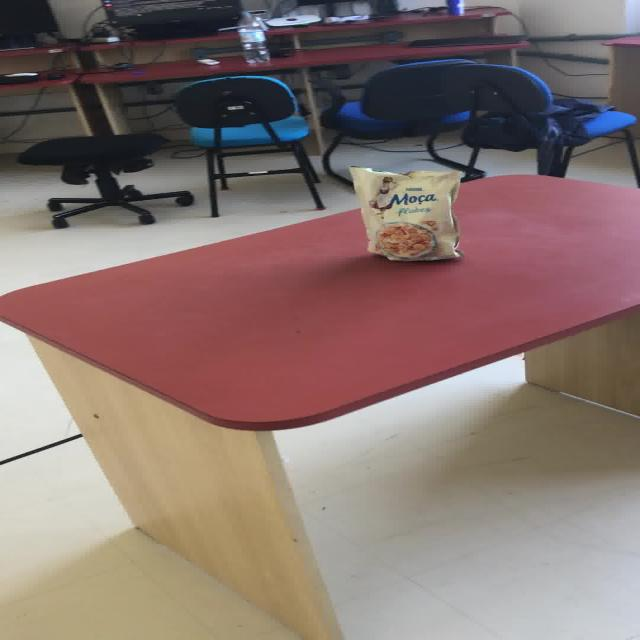corn flakes: (347, 166, 462, 260), (376, 221, 434, 258)
